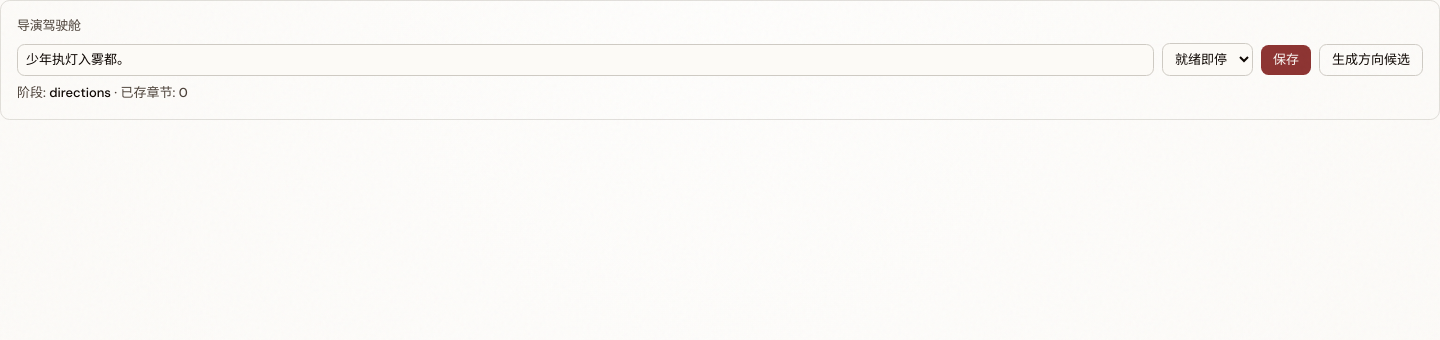
Scenario: DirectorPanel 方向候选（508 号） › 选用候选：PUT patch 携带 selectedDirection
expect the field with placeholder "一句话灵感…" is shown: met, box [17,44,1154,76]
What coordinates should you click on to do the following:
click the button "生成方向候选"
I would click on:
 (1371, 60)
Its box is [1319,44,1423,76].
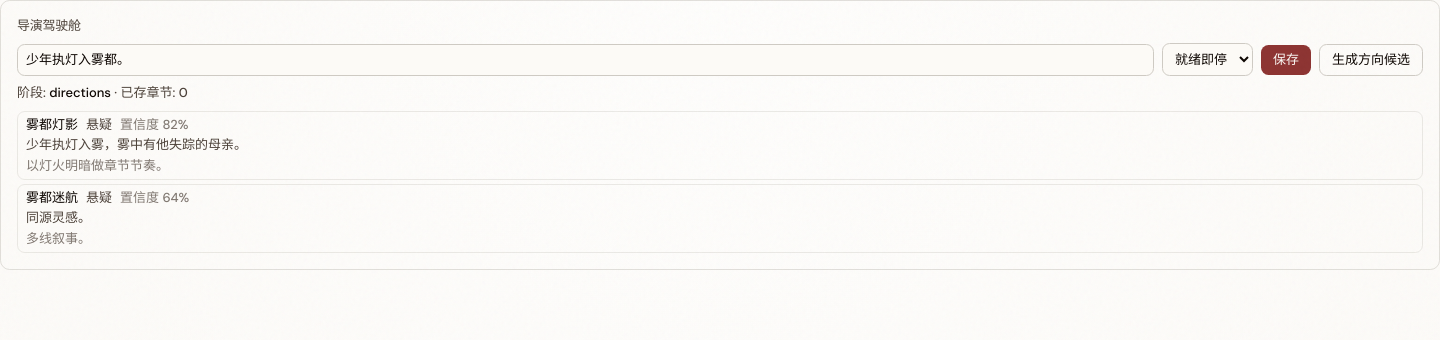
expect the text "雾都灯影" is shown: met, box [26,116,78,133]
What coordinates should you click on to do the following:
click the text "雾都灯影"
I would click on:
 (107, 124)
Its box is [26,116,188,133].
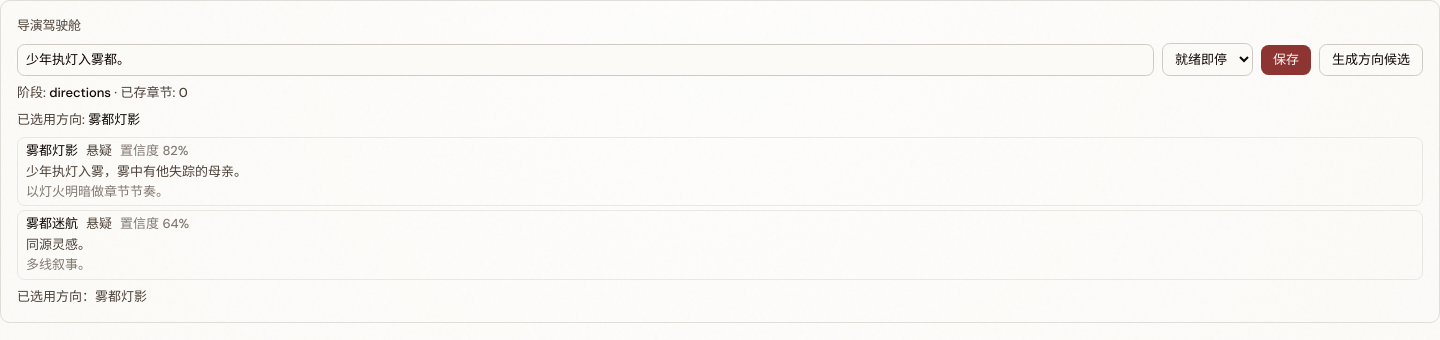
expect the text "已选用方向: 雾都灯影" is shown: met, box [17,111,140,128]
